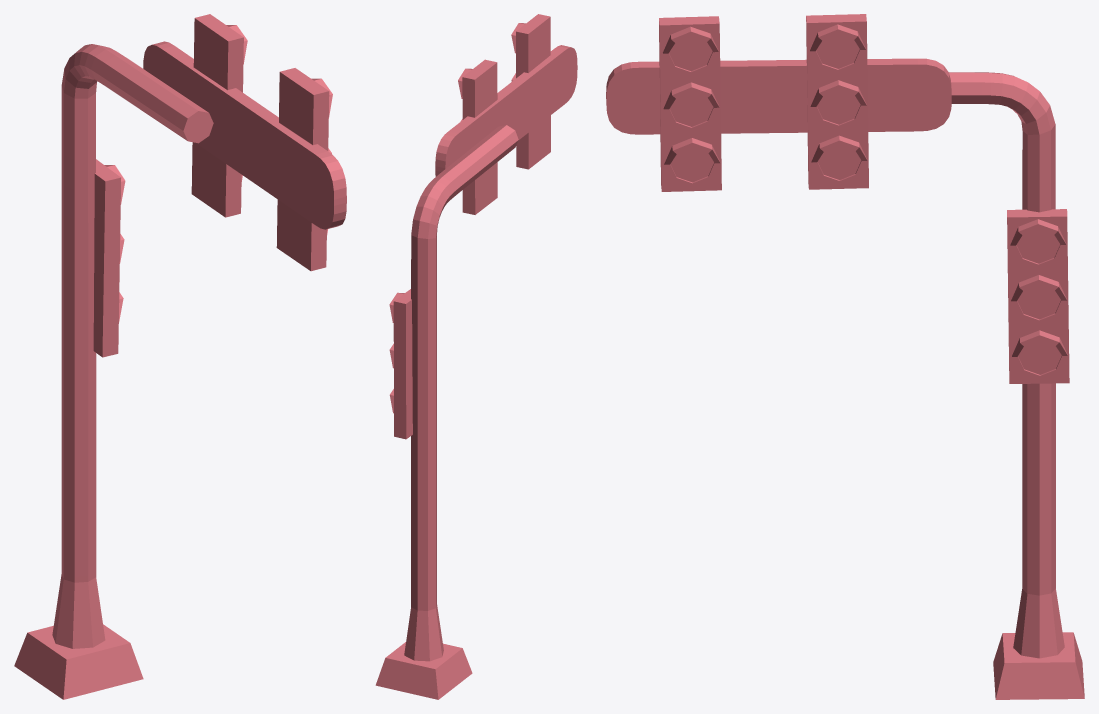
File: TrafficLight.fbx
The picture shows the model from 3 angles, left to right: view 1: azimuth 30°, elevation 25°; view 2: azimuth 150°, elevation 25°; view 3: azimuth 270°, elevation 25°; orthographic projection. The views are drawn at different scales.
Parts seen in each view (by area): view 1: Traffic Light.001; view 2: Traffic Light.001; view 3: Traffic Light.001.
Part boxes in pixels (left/top/right/bottom): Traffic Light.001: left=14, top=14, right=346, bottom=699; Traffic Light.001: left=375, top=14, right=577, bottom=699; Traffic Light.001: left=606, top=14, right=1084, bottom=699.
Bounding box in the file's own units: 10.1 × 67.87 × 43.36.
